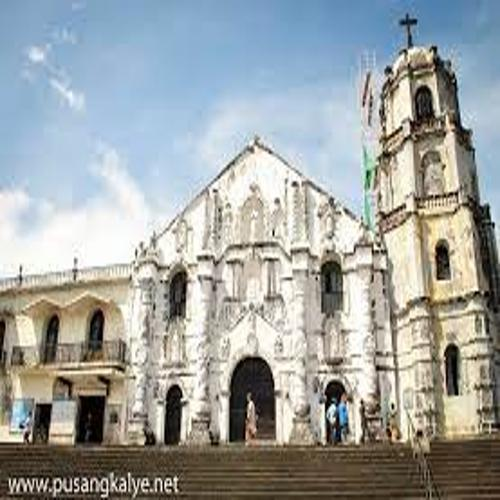Daraga Church: (133, 6, 500, 447)
